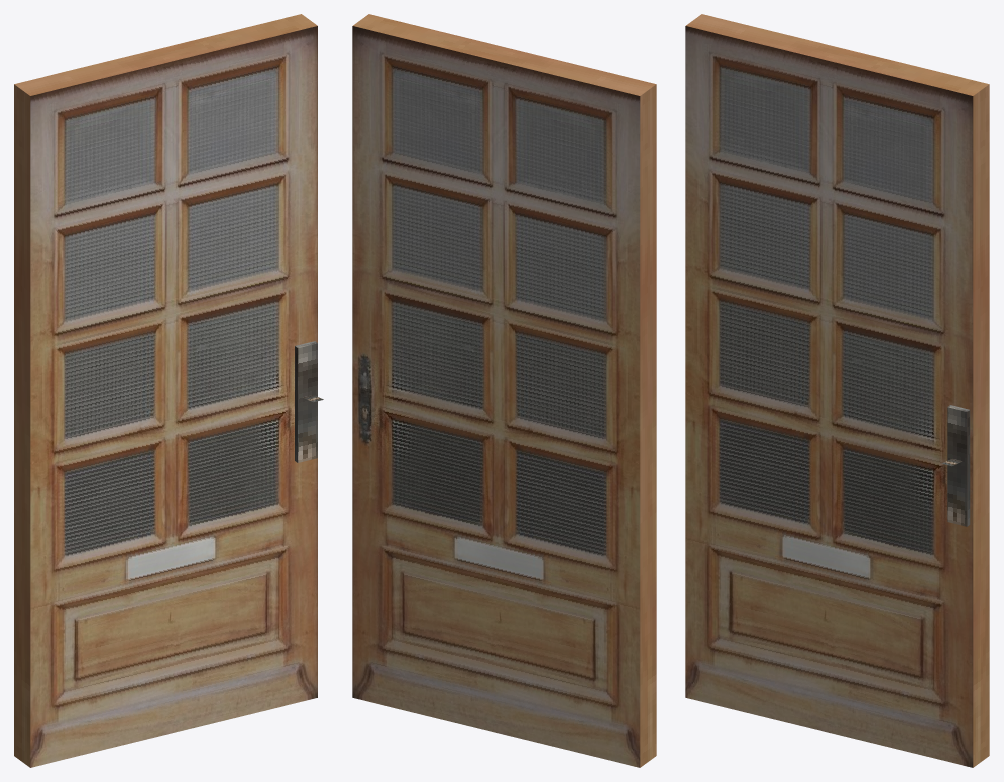
Rendered from door.gltf.
3 views of the same model, side by side, from view 1: azimuth 30°, elevation 25°; view 2: azimuth 150°, elevation 25°; view 3: azimuth 330°, elevation 25° (orthographic).
Parts seen in each view (by area): view 1: House_Demo_039; view 2: House_Demo_039; view 3: House_Demo_039.
Part boxes in pixels (left/top/right/bottom): House_Demo_039: left=14, top=14, right=323, bottom=767; House_Demo_039: left=352, top=14, right=656, bottom=767; House_Demo_039: left=685, top=14, right=989, bottom=767.
Size of the model in its own units: 1.01 by 2.25 by 0.1813.
Materials: 1 (1 with a texture image).
